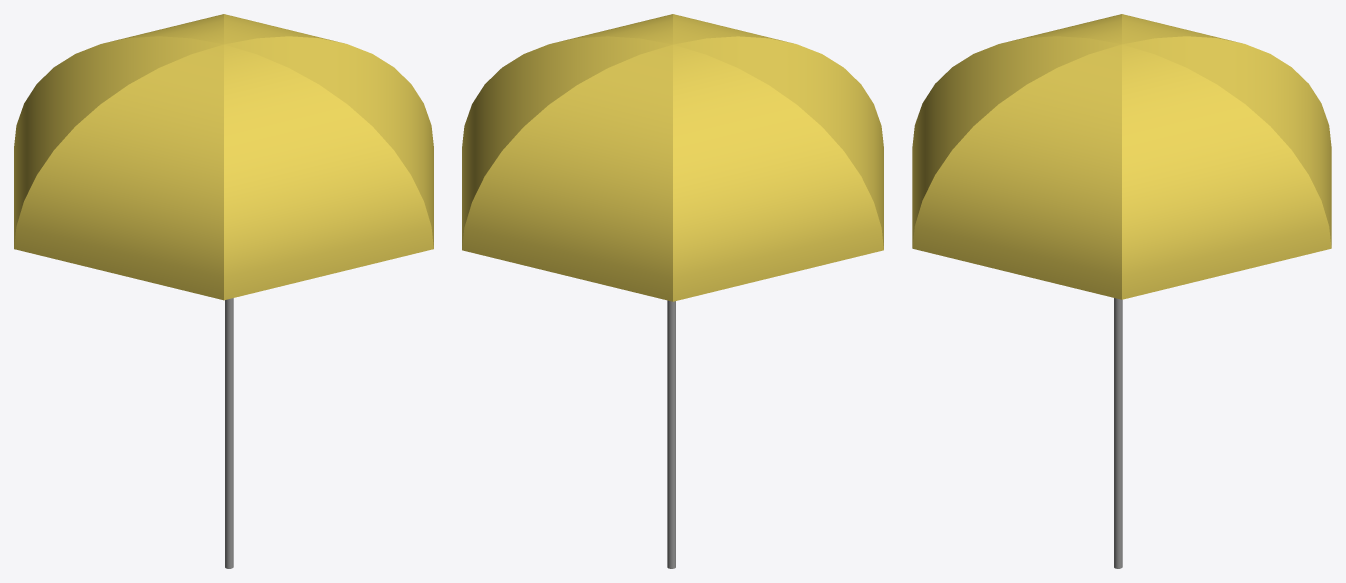
The model's file is Umbrella.gltf.
The picture shows the model from 3 angles, left to right: view 1: azimuth 30°, elevation 25°; view 2: azimuth 150°, elevation 25°; view 3: azimuth 270°, elevation 25°; orthographic projection.
Parts seen in each view (by area): view 1: pSphere3, pCylinder1; view 2: pSphere3, pCylinder1; view 3: pSphere3, pCylinder1.
Boxes of the visible parts, x1,y1,x2,y2 form: pSphere3: [14, 14, 433, 300]; pCylinder1: [225, 298, 233, 568]; pSphere3: [462, 14, 883, 301]; pCylinder1: [667, 300, 675, 568]; pSphere3: [912, 14, 1331, 299]; pCylinder1: [1114, 298, 1122, 568].
Bounding box in the file's own units: 0.0482 × 0.0573 × 0.0418.
